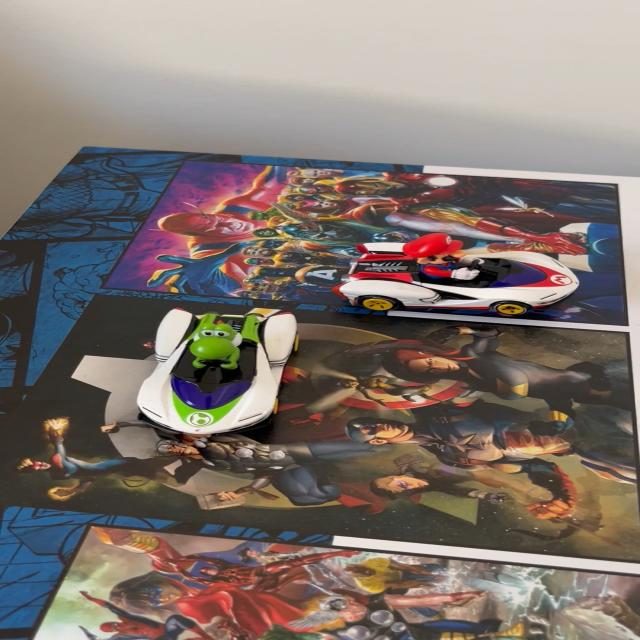mario: (326, 232, 592, 321)
yoshi: (123, 305, 305, 449)
